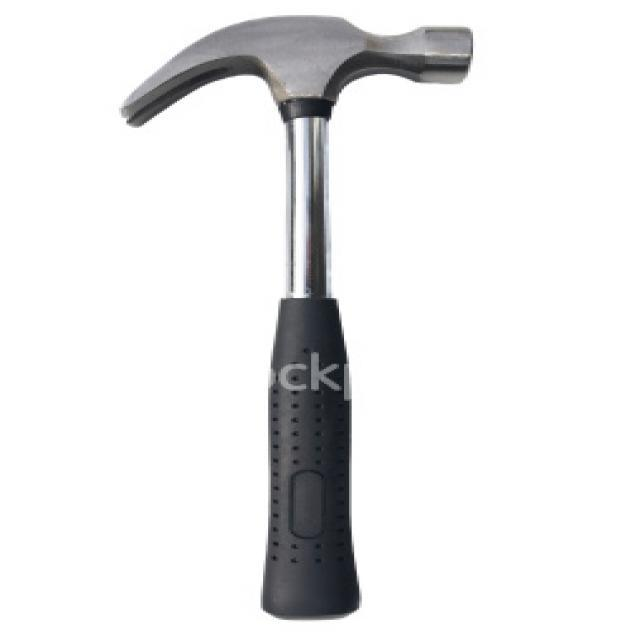hammer: (100, 5, 500, 625)
